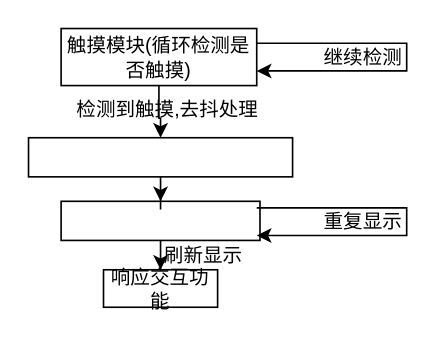
The diagram is 448 pixels wide and 341 high, and some of its shapes have lost their labels. Each missing label, with the box of its shape:
显示模块: (59, 200, 260, 240)
转换为LVGL点击事件: (27, 136, 293, 177)
